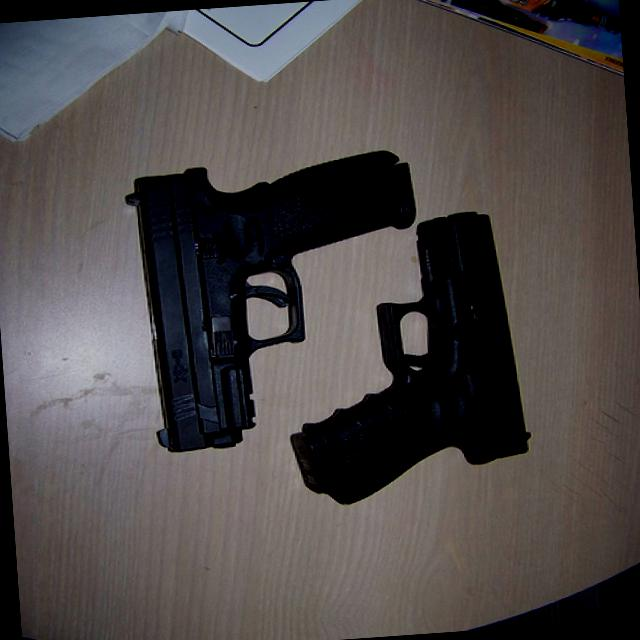handgun: (124, 144, 432, 456), (270, 208, 530, 511)
